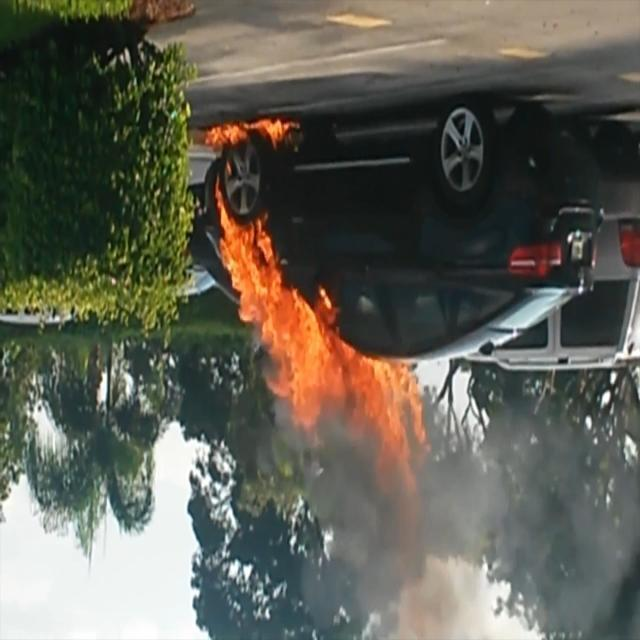fire: (205, 119, 422, 517)
